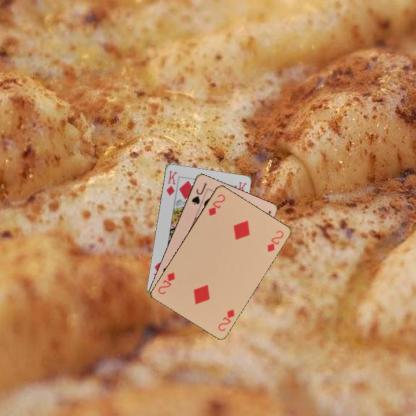2d: (206, 191, 226, 217), (216, 306, 236, 332)
Js: (189, 180, 208, 206)
Kd: (164, 168, 178, 197)
